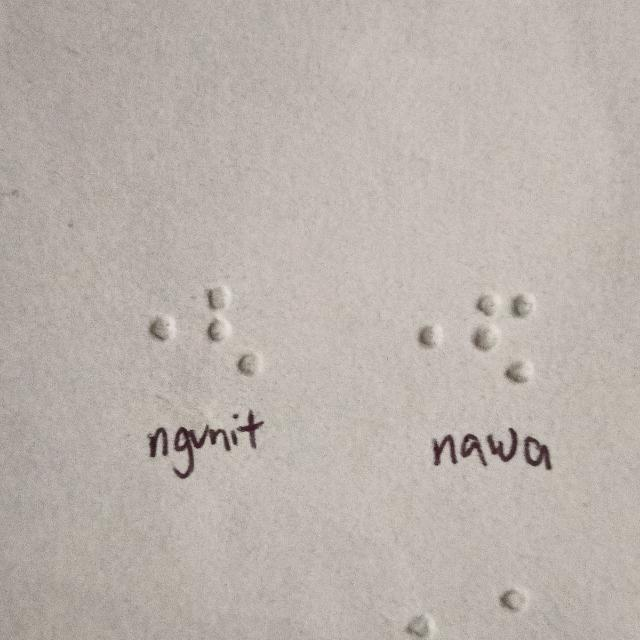dot_5: (117, 283, 179, 375), (383, 292, 445, 384)
two_cell_non_alphabet_nawa: (472, 290, 538, 385)
two_cell_non_alphabet_ngunit: (205, 284, 267, 376)
